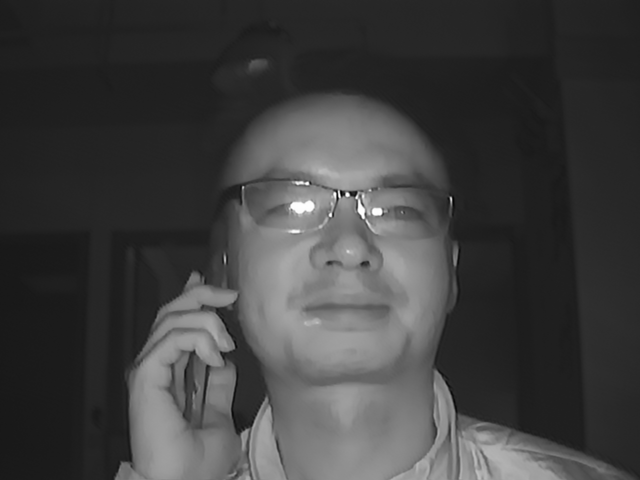hand: (122, 265, 240, 472)
